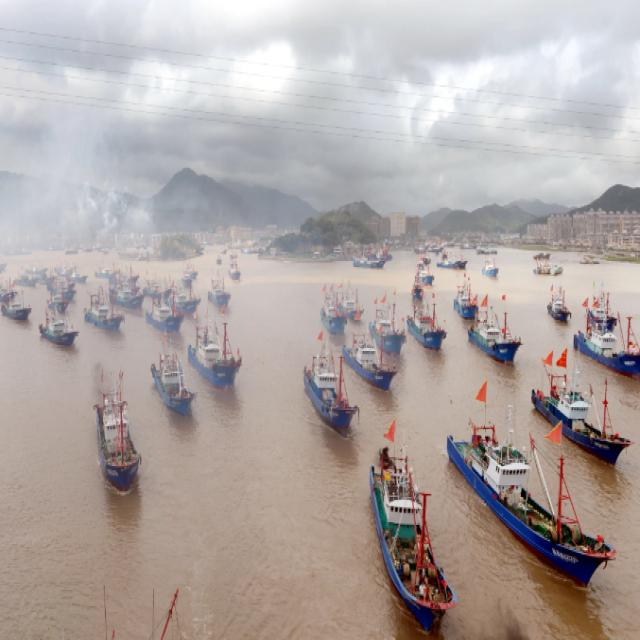fishing boat: (447, 409, 610, 587), (370, 421, 452, 630), (532, 362, 629, 456), (92, 361, 140, 493), (575, 289, 640, 384), (303, 346, 355, 430), (151, 334, 192, 424), (466, 303, 519, 367), (190, 324, 241, 390), (341, 330, 394, 390), (85, 282, 125, 332), (370, 293, 400, 356), (37, 304, 79, 346), (148, 294, 184, 333), (1, 285, 33, 321), (320, 290, 345, 336), (110, 276, 142, 308), (545, 280, 571, 318), (453, 278, 478, 316), (336, 284, 363, 319), (208, 270, 231, 310), (167, 284, 197, 314), (354, 250, 387, 269), (533, 256, 561, 277), (437, 253, 468, 271), (481, 252, 500, 280), (114, 266, 140, 286), (144, 276, 164, 300), (12, 270, 35, 290), (67, 264, 86, 288), (416, 256, 432, 284), (93, 260, 114, 277), (228, 260, 243, 283), (476, 244, 501, 257), (25, 260, 47, 274), (532, 246, 550, 262), (182, 270, 193, 288)
